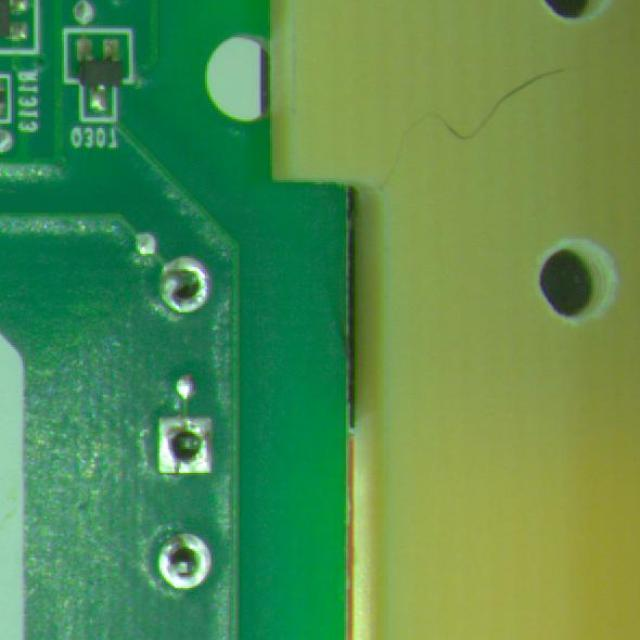Insufficient solder: (147, 411, 228, 485), (154, 252, 226, 314), (152, 528, 218, 592)
